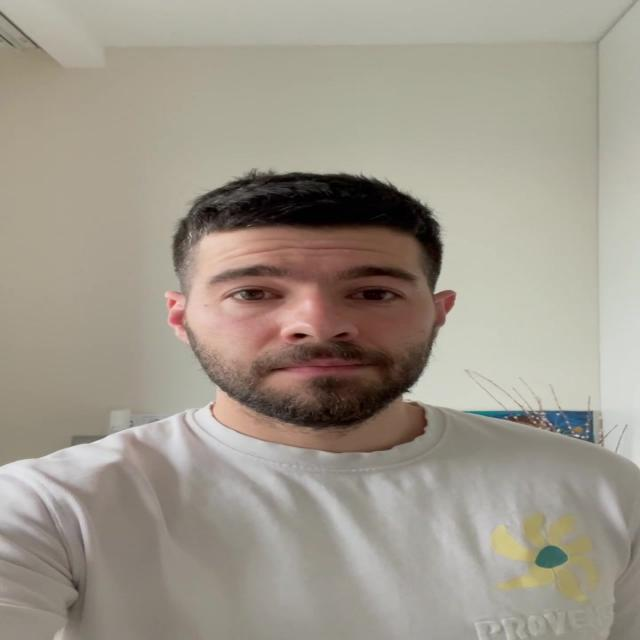earlobe: (170, 326, 190, 345)
eye: (345, 289, 404, 303), (227, 288, 283, 302)
nose: (283, 337, 358, 361)
wholeear: (163, 291, 190, 345), (432, 290, 456, 344)
